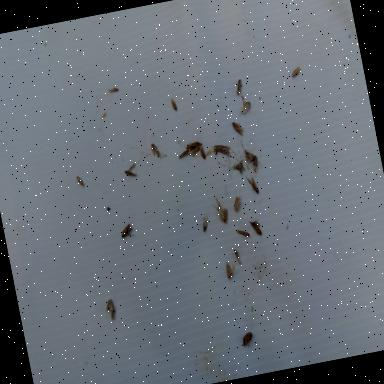pbw: (236, 98, 253, 116), (246, 174, 260, 195), (214, 142, 232, 158), (225, 259, 238, 280), (201, 215, 212, 238), (232, 120, 246, 138), (120, 223, 136, 238), (249, 219, 262, 237), (232, 194, 244, 212), (150, 142, 162, 160), (124, 163, 138, 178), (104, 298, 116, 314), (234, 79, 244, 96), (244, 149, 256, 162), (237, 228, 250, 240), (252, 155, 260, 174), (221, 208, 230, 224), (290, 66, 302, 78), (76, 174, 86, 188), (234, 249, 242, 266), (198, 144, 206, 160), (178, 150, 190, 160), (170, 97, 178, 111), (219, 206, 226, 222), (186, 141, 200, 149), (107, 86, 119, 93), (191, 146, 201, 154), (110, 309, 116, 321), (238, 162, 244, 173)
